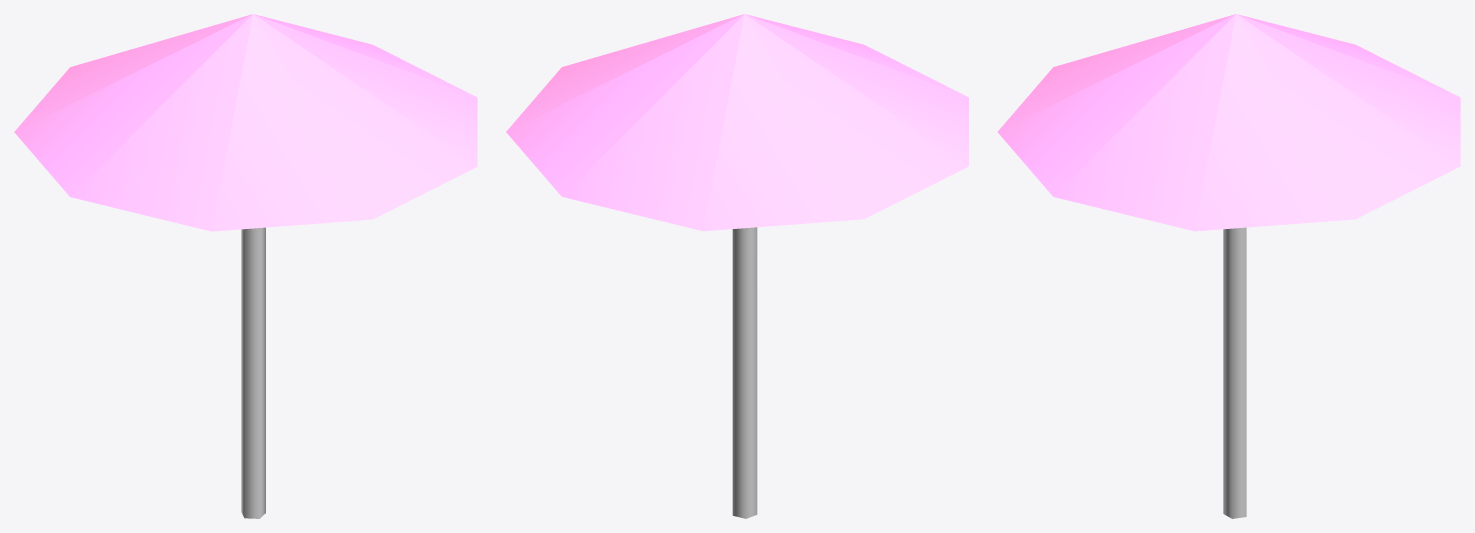
Rendered from parasol.glb.
3 views of the same model, side by side, from view 1: azimuth 30°, elevation 25°; view 2: azimuth 150°, elevation 25°; view 3: azimuth 270°, elevation 25° (orthographic).
Size of the model in its own units: 1.08 by 1.27 by 1.07.
